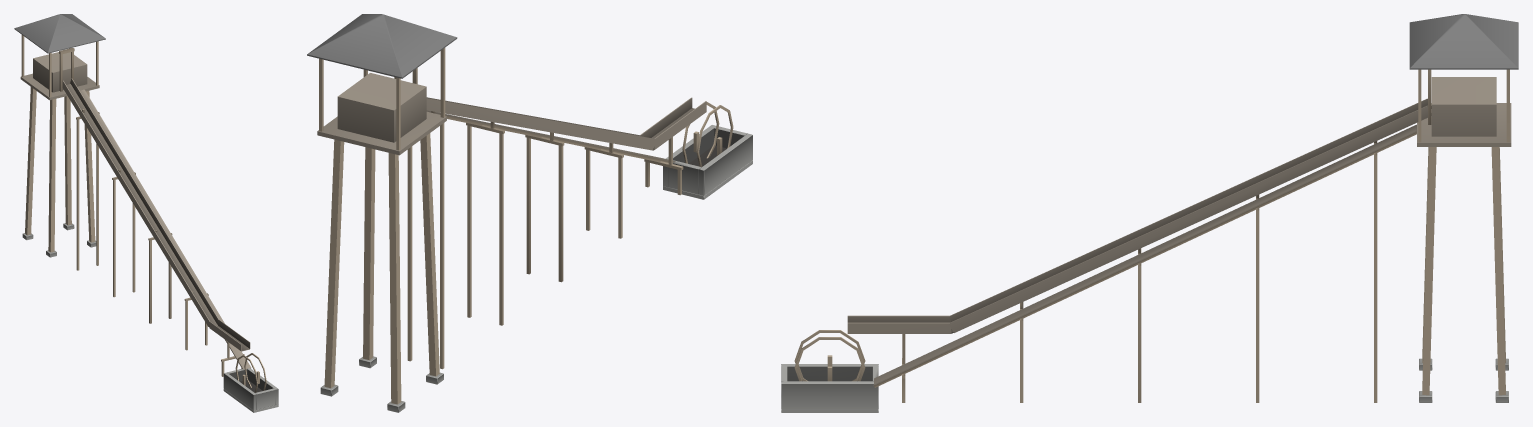
The model's file is mill_race_lod2.glb.
3 renders of one model, left to right at view 1: azimuth 30°, elevation 25°; view 2: azimuth 150°, elevation 25°; view 3: azimuth 270°, elevation 25°, orthographic. The views are drawn at different scales.
Visible parts, largest first — view 1: static; view 2: static; view 3: static.
Part boxes in pixels (box(x1,y1,x2,y2)): static: box(14, 14, 278, 412); static: box(307, 14, 752, 412); static: box(781, 14, 1518, 412).
Bounding box in the file's own units: 7.4 × 29.3 × 50.
